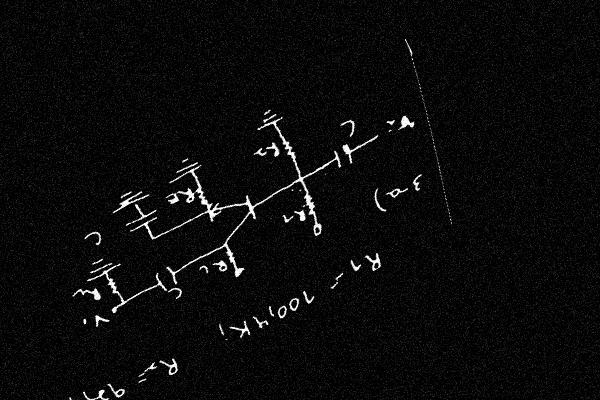capacitor: (123, 204, 164, 239), (147, 260, 183, 297), (327, 138, 362, 175)
ground: (105, 180, 154, 221), (79, 247, 125, 288), (161, 149, 207, 189), (250, 103, 286, 137)
resistor: (276, 131, 305, 170), (297, 186, 325, 224), (101, 271, 124, 303), (190, 180, 214, 210), (220, 244, 242, 270)
